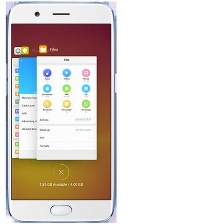phone: (5, 0, 118, 224)
